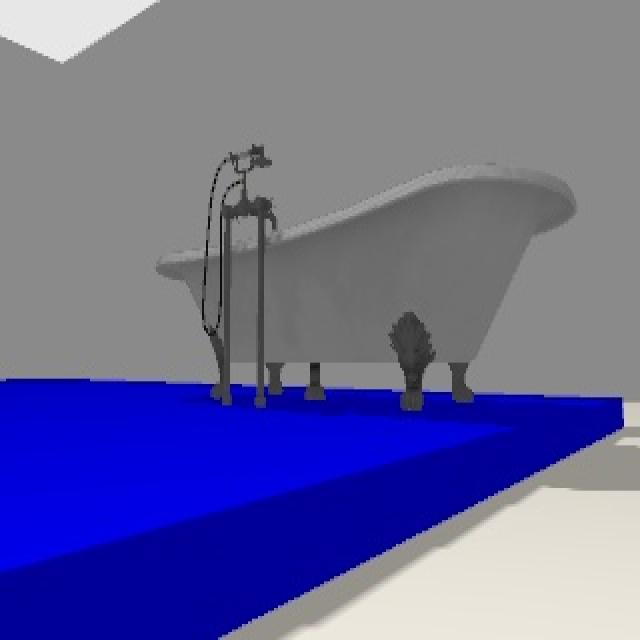bathtub: (156, 146, 566, 417)
